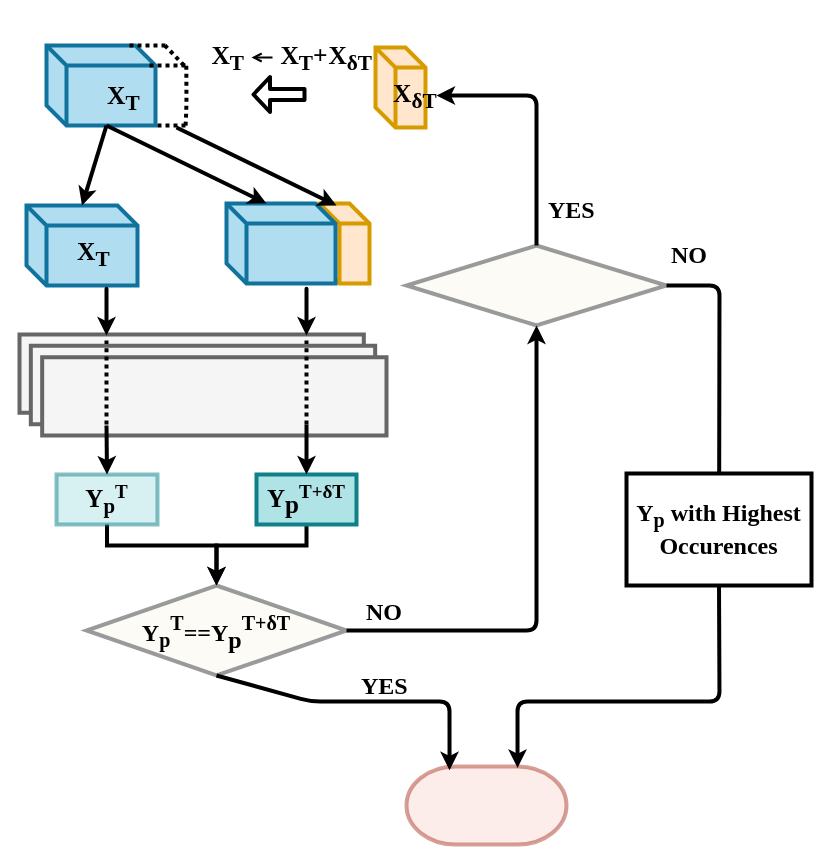
Some shapes in this 830 by 864 pixel diagram are drawn without their labels. The shapes that lost their labels are listed below. From the top down, each one's centre as x and y in pixels, then its label:
the point at 344,243: X T+δT
the point at 536,285: T<T max
the point at 202,384: LSTM
the point at 486,805: Output: Y P *
